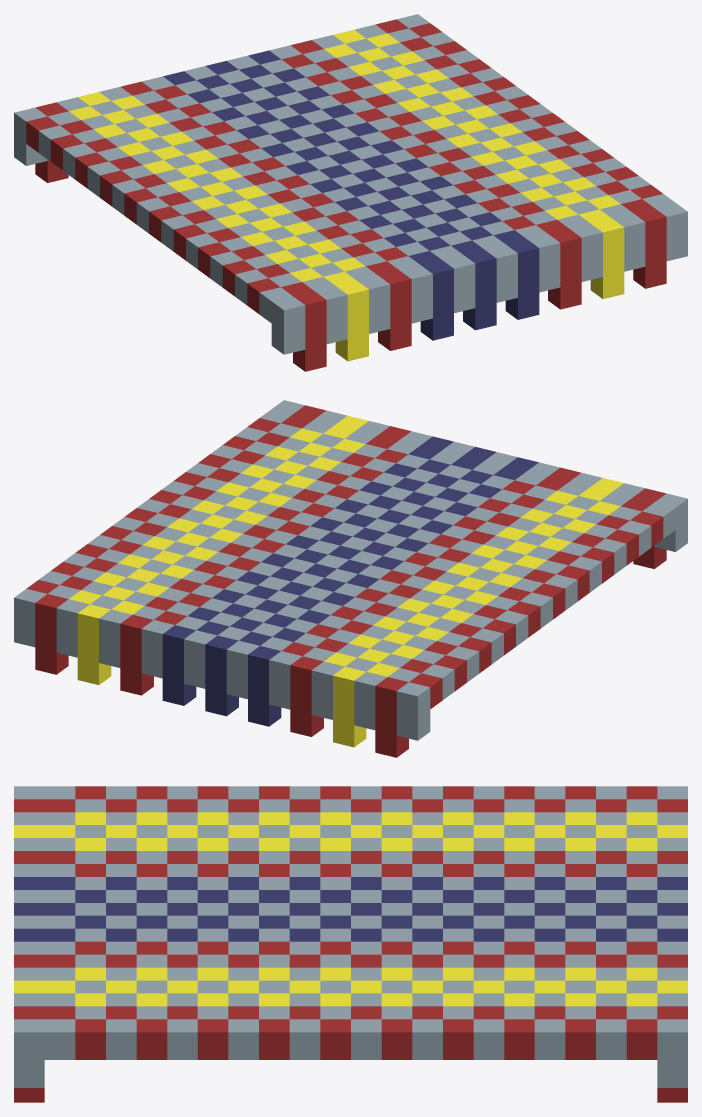
The model's file is cloth.obj.
3 renders of one model, top to bottom at view 1: azimuth 30°, elevation 25°; view 2: azimuth 150°, elevation 25°; view 3: azimuth 270°, elevation 25°, orthographic. The views are drawn at different scales.
Bounding box in the file's own units: 1.9 × 0.3 × 2.2.
1 material, 1 textured.
